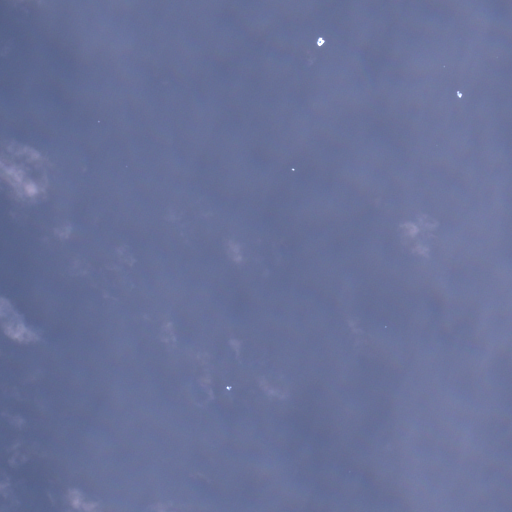Iceberg: (317, 37, 324, 45), (457, 91, 461, 97), (226, 386, 231, 390), (291, 168, 294, 170), (443, 66, 444, 67), (98, 121, 99, 122), (385, 326, 386, 327)
